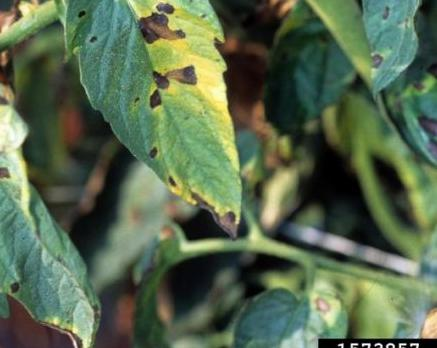Tomato Early blight leaf: (54, 0, 263, 219), (0, 47, 105, 338)
